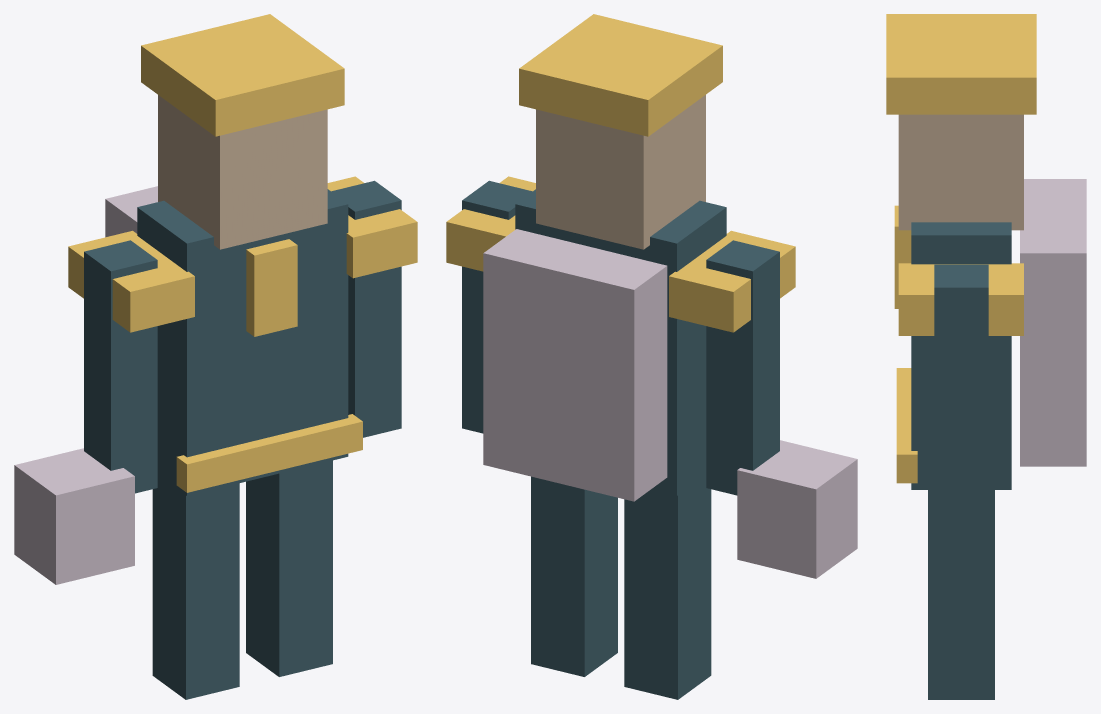
File: 14_korra_gearmantle_captain_of_echo.glb
3 views of the same model, side by side, from view 1: azimuth 30°, elevation 25°; view 2: azimuth 150°, elevation 25°; view 3: azimuth 270°, elevation 25° (orthographic).
Parts seen in each view (by area): view 1: Korra Gearmantle, Captain of Echo; view 2: Korra Gearmantle, Captain of Echo; view 3: Korra Gearmantle, Captain of Echo.
Boxes of the visible parts, <box> form: Korra Gearmantle, Captain of Echo: <box>14,14,417,699</box>; Korra Gearmantle, Captain of Echo: <box>446,14,857,699</box>; Korra Gearmantle, Captain of Echo: <box>886,14,1086,699</box>.
Bounding box in the file's own units: 1.03 × 1.68 × 0.4948.
